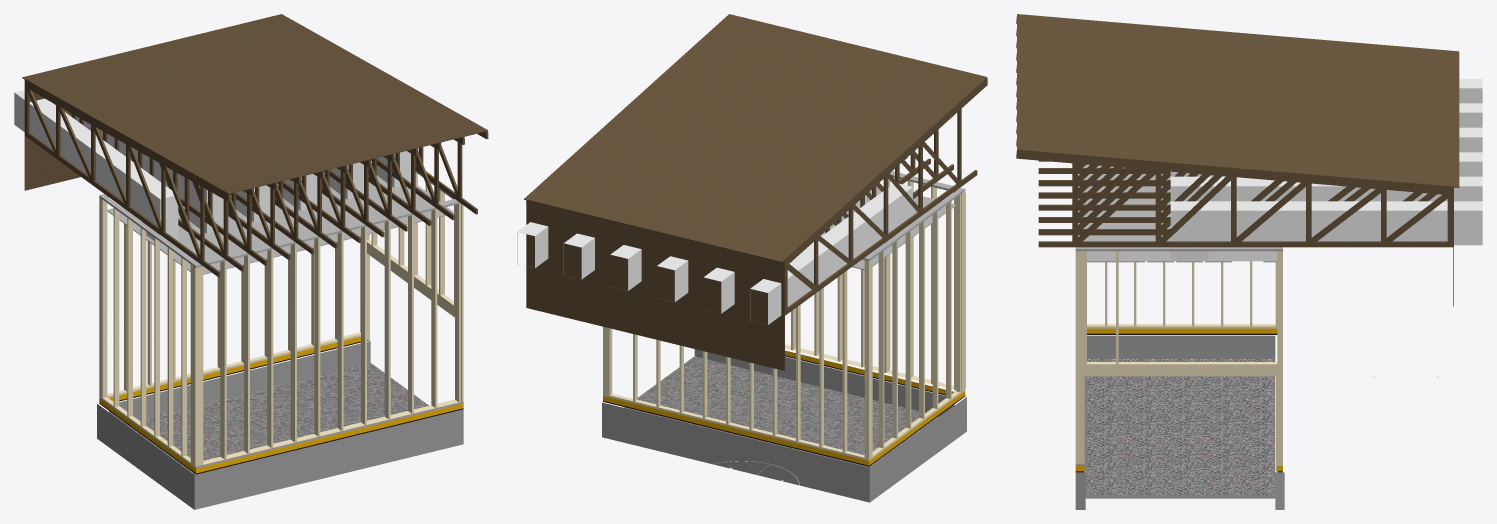
Rendered from tobera.glb.
3 views of the same model, side by side, from view 1: azimuth 30°, elevation 25°; view 2: azimuth 150°, elevation 25°; view 3: azimuth 270°, elevation 25° (orthographic). The views are drawn at different scales.
Parts seen in each view (by area): view 1: 戸牧_skp, Group_27, Group_2_2, Group_4_2, Group_0_4, Group_4, Group_0_3, Group_26, Group_10, Group_12, Group_28, Group_9_2 (+28 smaller); view 2: Group_27, 戸牧_skp, Group_2_2, Group_4_2, Group_17, Group_21, Group_23, Group_19, Group_22, Group_18, Group_20, Group_8_2 (+10 smaller); view 3: Group_27, 戸牧_skp, Group_10_2, Group_1_3, Group_3_3, Group_7, Group_5, Group_8, Group_9, Group_11_2, Group_5_2, Group_2_3 (+2 smaller).
Boxes of the visible parts, x1=… form: 戸牧_skp: x1=97, y1=161, x2=463, y2=509; Group_27: x1=22, y1=14, x2=487, y2=194; Group_2_2: x1=25, y1=80, x2=230, y2=277; Group_4_2: x1=14, y1=90, x2=178, y2=245; Group_0_4: x1=76, y1=116, x2=223, y2=233; Group_4: x1=63, y1=109, x2=254, y2=271; Group_0_3: x1=71, y1=114, x2=277, y2=265; Group_26: x1=191, y1=265, x2=197, y2=466; Group_10: x1=314, y1=238, x2=320, y2=436; Group_12: x1=220, y1=260, x2=226, y2=459; Group_28: x1=431, y1=209, x2=437, y2=407; Group_9_2: x1=267, y1=249, x2=273, y2=447; Group_27: x1=524, y1=14, x2=987, y2=370; 戸牧_skp: x1=602, y1=171, x2=966, y2=502; Group_2_2: x1=785, y1=78, x2=987, y2=315; Group_4_2: x1=750, y1=183, x2=912, y2=324; Group_17: x1=878, y1=250, x2=884, y2=448; Group_21: x1=932, y1=211, x2=938, y2=408; Group_23: x1=955, y1=194, x2=961, y2=391; Group_19: x1=905, y1=231, x2=911, y2=428; Group_22: x1=946, y1=201, x2=951, y2=398; Group_18: x1=892, y1=240, x2=897, y2=438; Group_20: x1=919, y1=221, x2=924, y2=418; Group_8_2: x1=842, y1=270, x2=847, y2=452; Group_27: x1=1017, y1=14, x2=1459, y2=306; 戸牧_skp: x1=1075, y1=164, x2=1284, y2=509; Group_10_2: x1=1016, y1=150, x2=1453, y2=247; Group_1_3: x1=1170, y1=201, x2=1482, y2=260; Group_3_3: x1=1170, y1=176, x2=1482, y2=201; Group_7: x1=1016, y1=139, x2=1436, y2=235; Group_5: x1=1016, y1=127, x2=1422, y2=222; Group_8: x1=1016, y1=115, x2=1198, y2=210; Group_9: x1=1016, y1=102, x2=1186, y2=198; Group_11_2: x1=1016, y1=90, x2=1170, y2=186; Group_5_2: x1=1170, y1=152, x2=1482, y2=176; Group_2_3: x1=1459, y1=127, x2=1482, y2=152.
Size of the model in its own units: 523 by 622 by 733.
61 materials, 14 textured.
